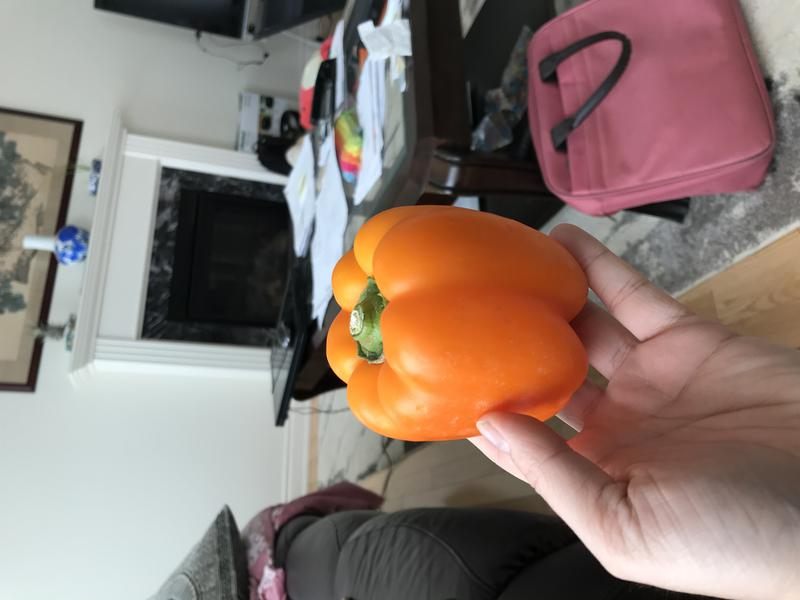orange_pepper: (317, 197, 605, 448)
